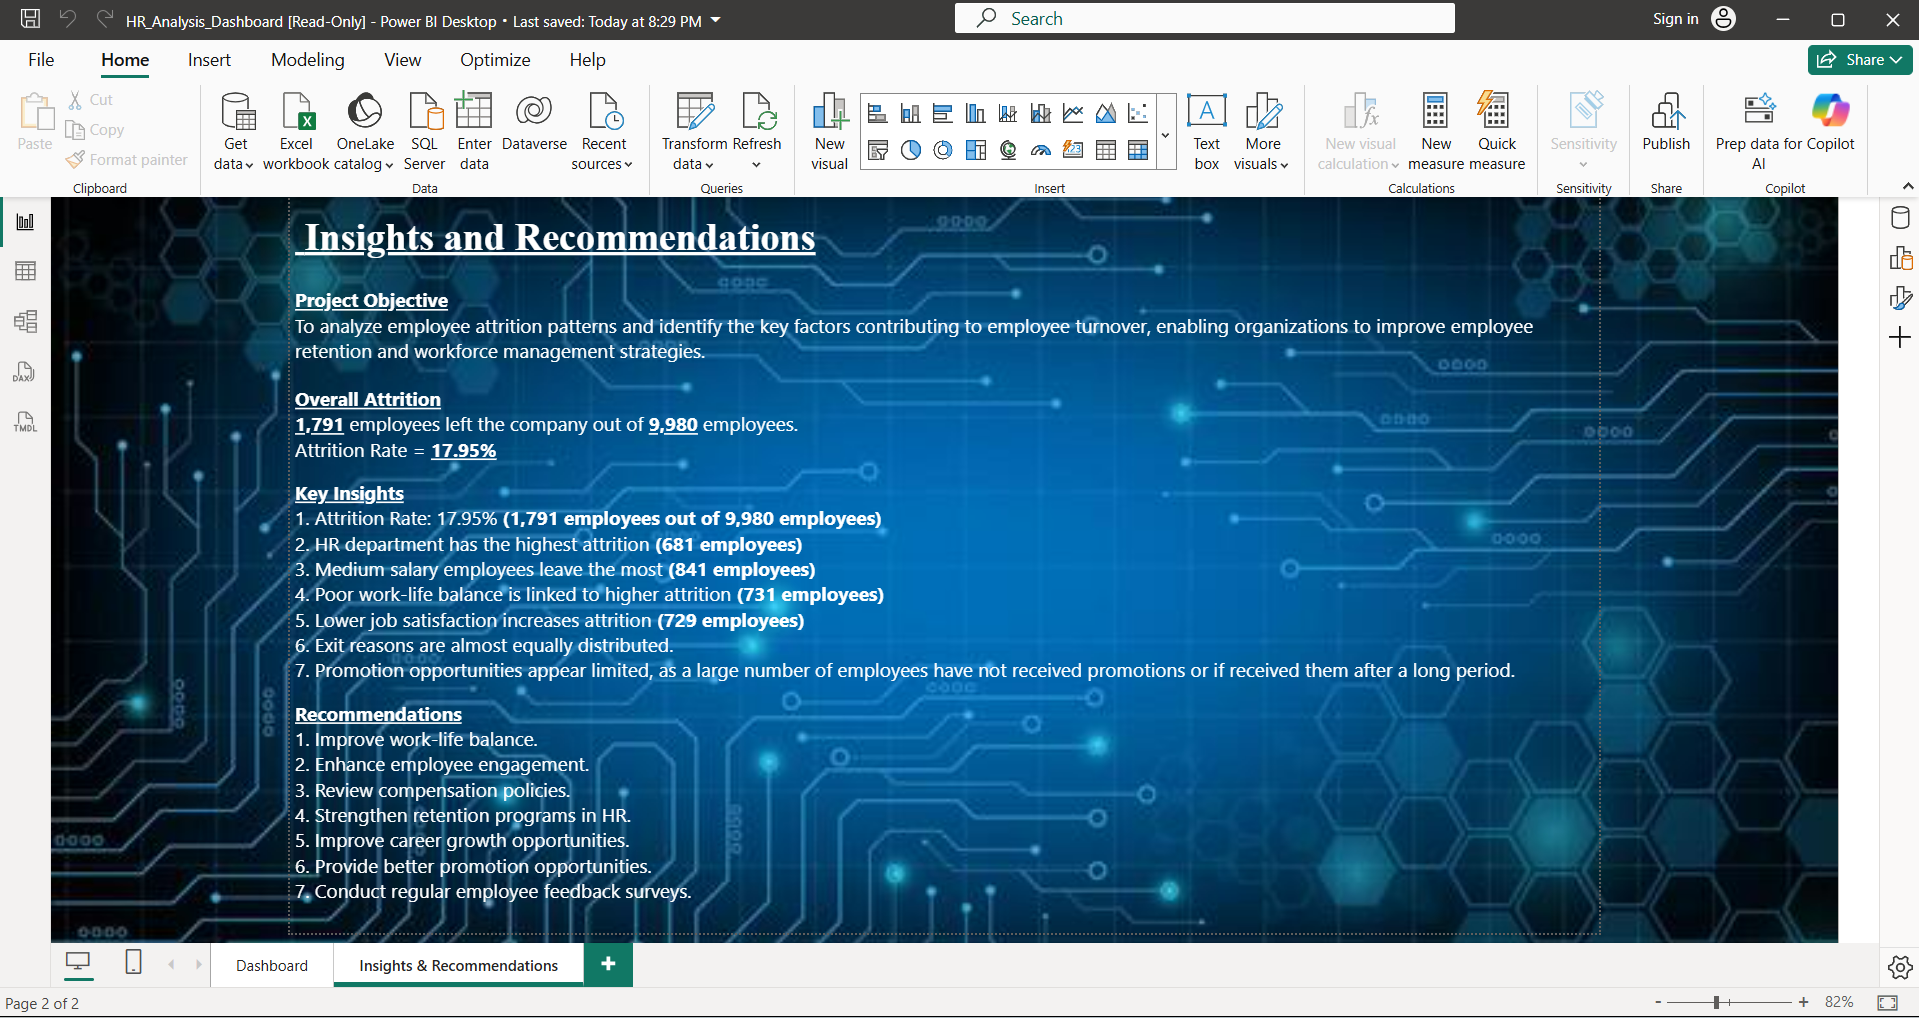

Layout of this report page (visuals, bound fields, positions):
{"tool":"powerbi","page":{"name":"Insights & Recommendations","canvas":[1280,720],"ordinal":1},"visuals":[{"type":"textbox","box":[0,83.2,1280.3,96.6],"z":0},{"type":"textbox","box":[0,12.2,540.5,58.7],"z":1000},{"type":"textbox","box":[0,271.2,1280.3,448.8],"z":2000},{"type":"textbox","box":[0,180,1280.3,91.7],"z":3000}]}

Visuals, with their boxes in screenshot pixels (x1, y1, x2, y2):
textbox: l=45, t=56, r=1833, b=191
textbox: l=45, t=0, r=800, b=39
textbox: l=45, t=319, r=1833, b=945
textbox: l=45, t=191, r=1833, b=319
